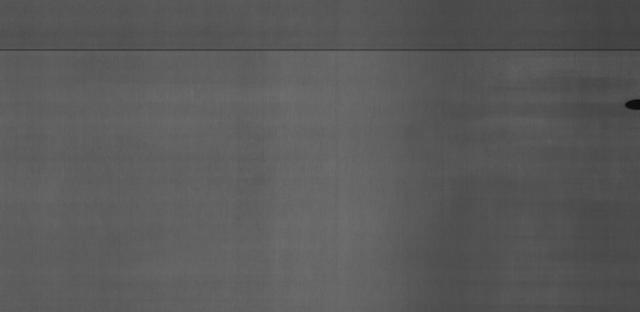punching_hole: (618, 94, 640, 111)
welding_line: (0, 39, 640, 65)
